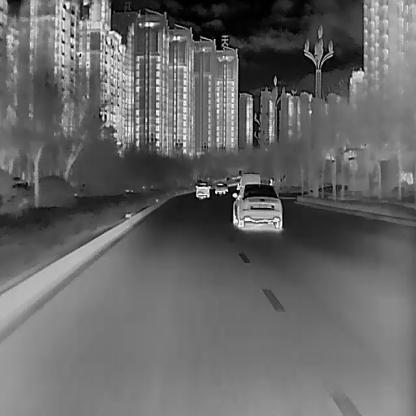car: (231, 182, 283, 229), (239, 172, 260, 188), (195, 180, 210, 198), (213, 181, 225, 194), (222, 181, 228, 191)
